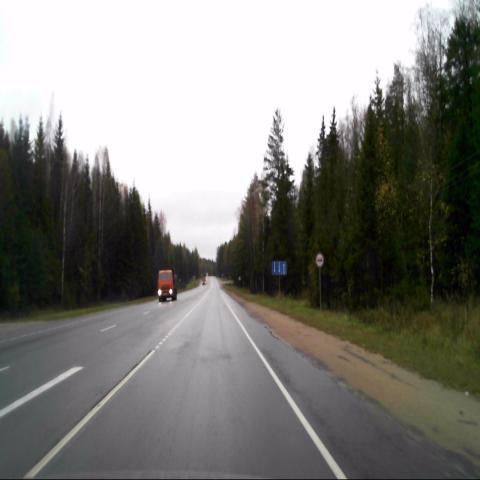5_15_7: (270, 260, 286, 275)
